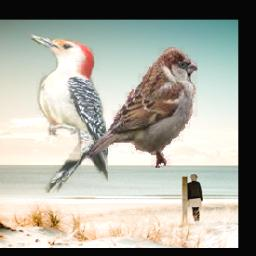Sparrow: (84, 48, 197, 169)
Woodpecker: (24, 32, 108, 193)
